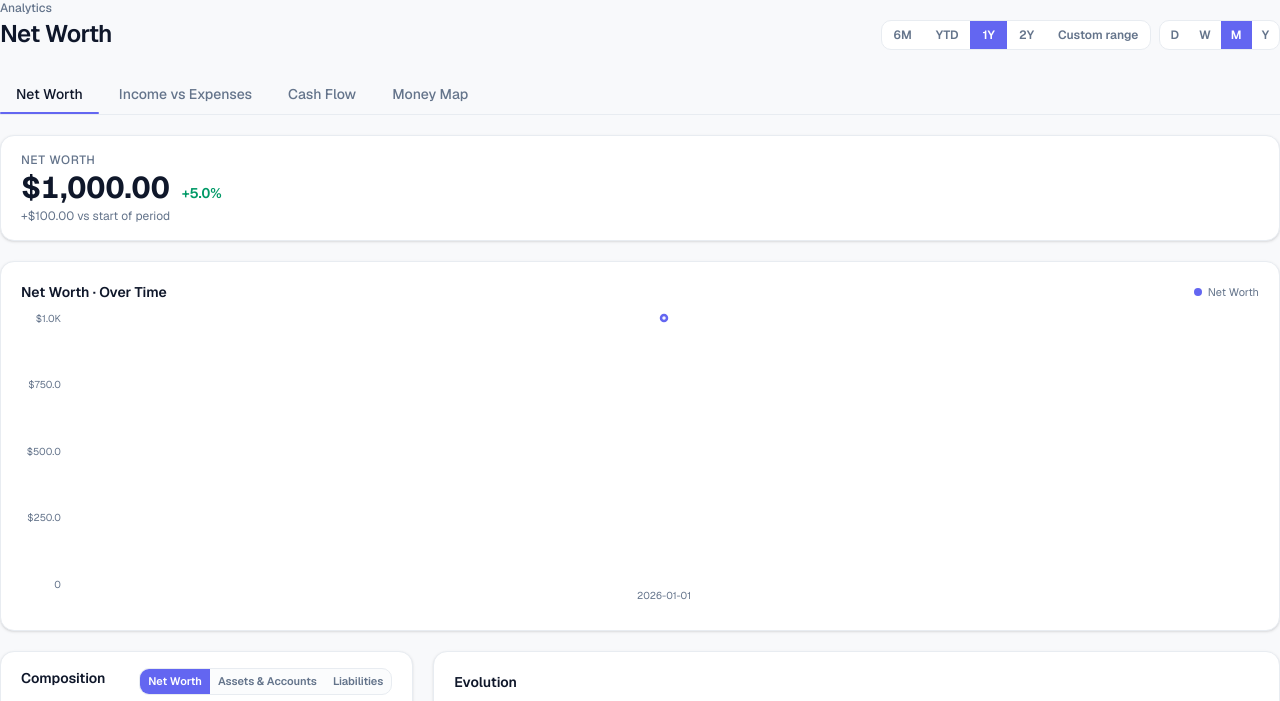
Test: Reset then Apply restores the fallback for reports.moneyMap
What coordinates should you click on to do the following:
click the button "Money Map"
I would click on:
 (430, 94)
Its box is [376, 74, 484, 114].
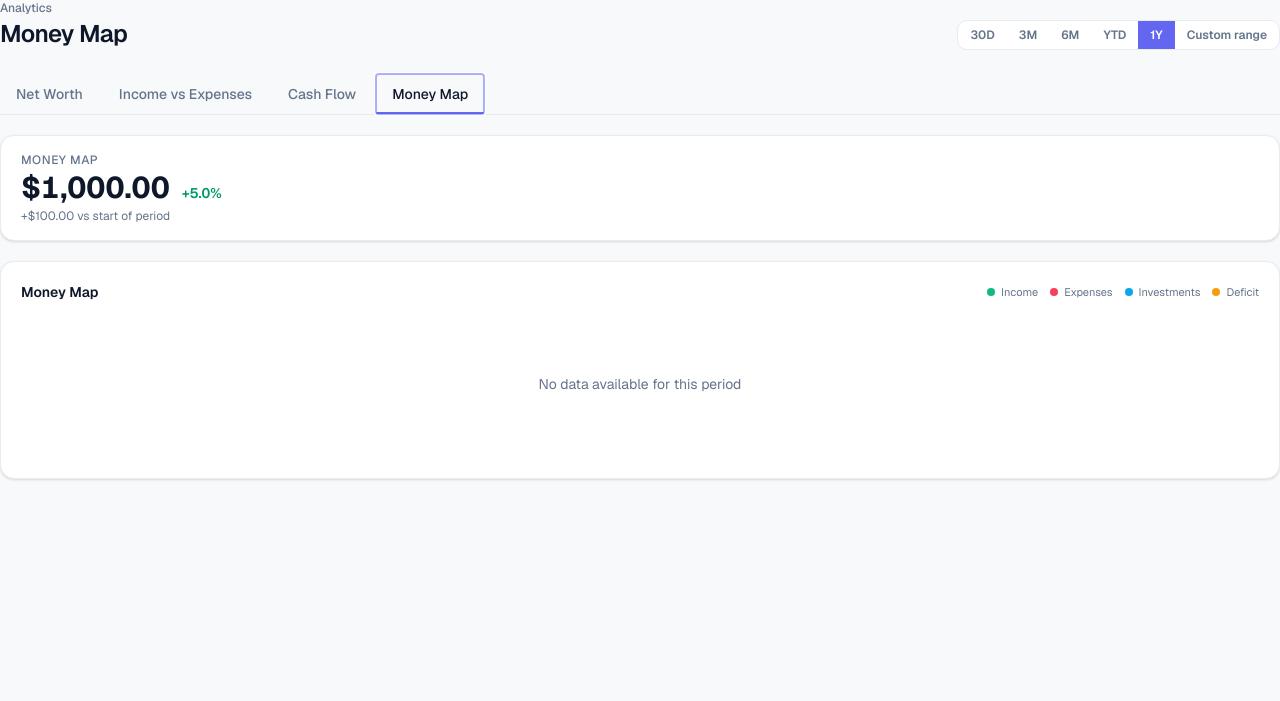
What coordinates should you click on to do the following:
click the button "Custom range"
I would click on:
 (1227, 35)
Its box is [1175, 21, 1279, 49].
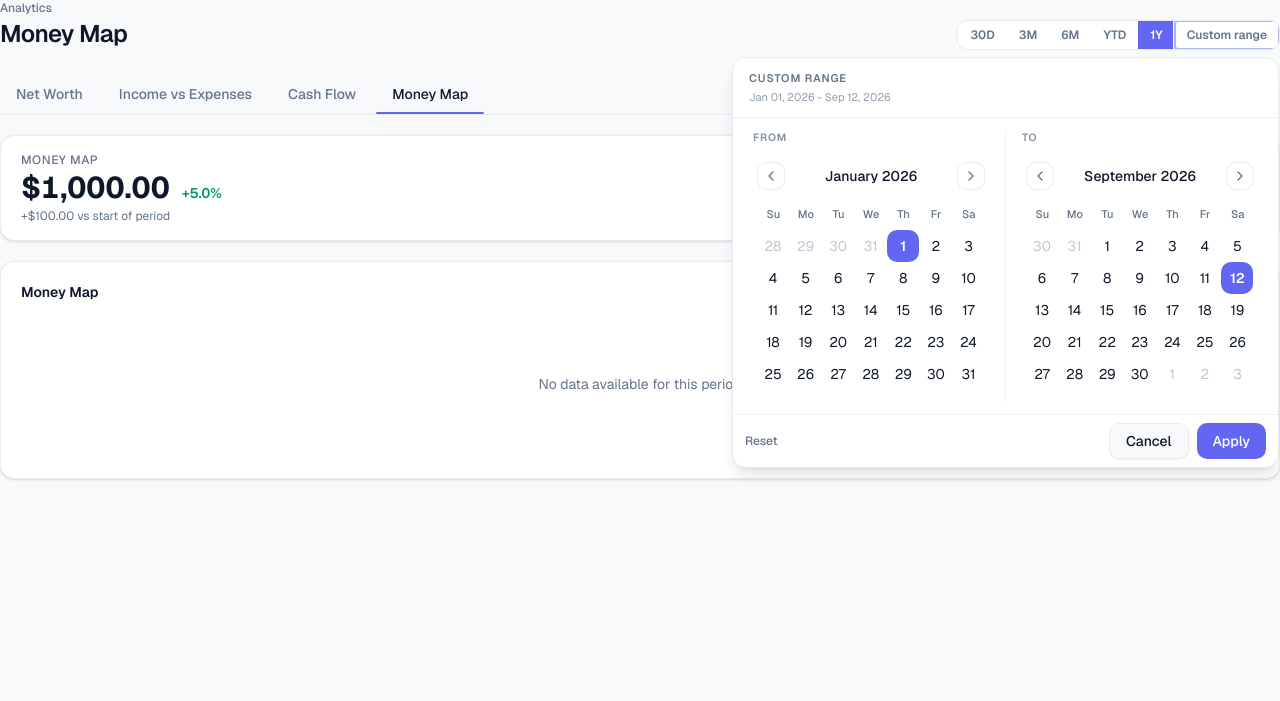
What coordinates should you click on to do the following:
click the button "Apply"
I would click on:
 (1231, 441)
Its box is [1196, 423, 1266, 459].
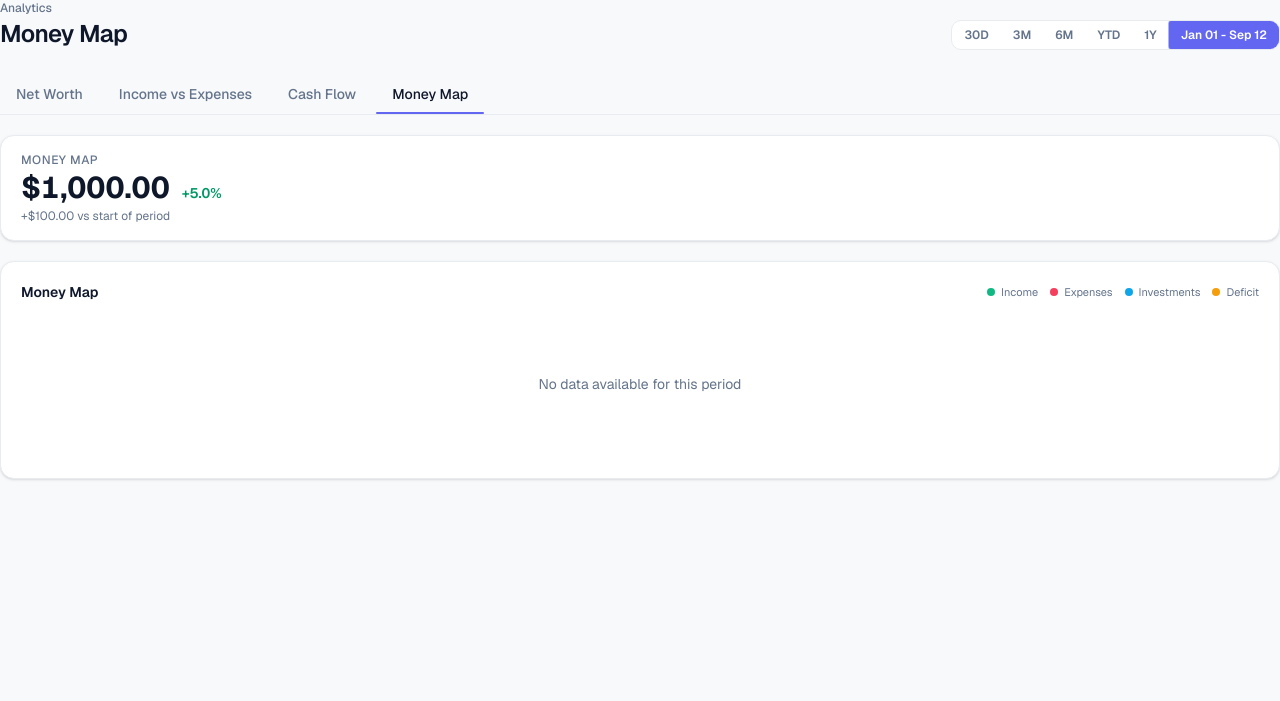
What coordinates should you click on to do the following:
click the button with aria-label "Custom range"
I would click on:
 (1224, 35)
Its box is [1169, 21, 1279, 49].
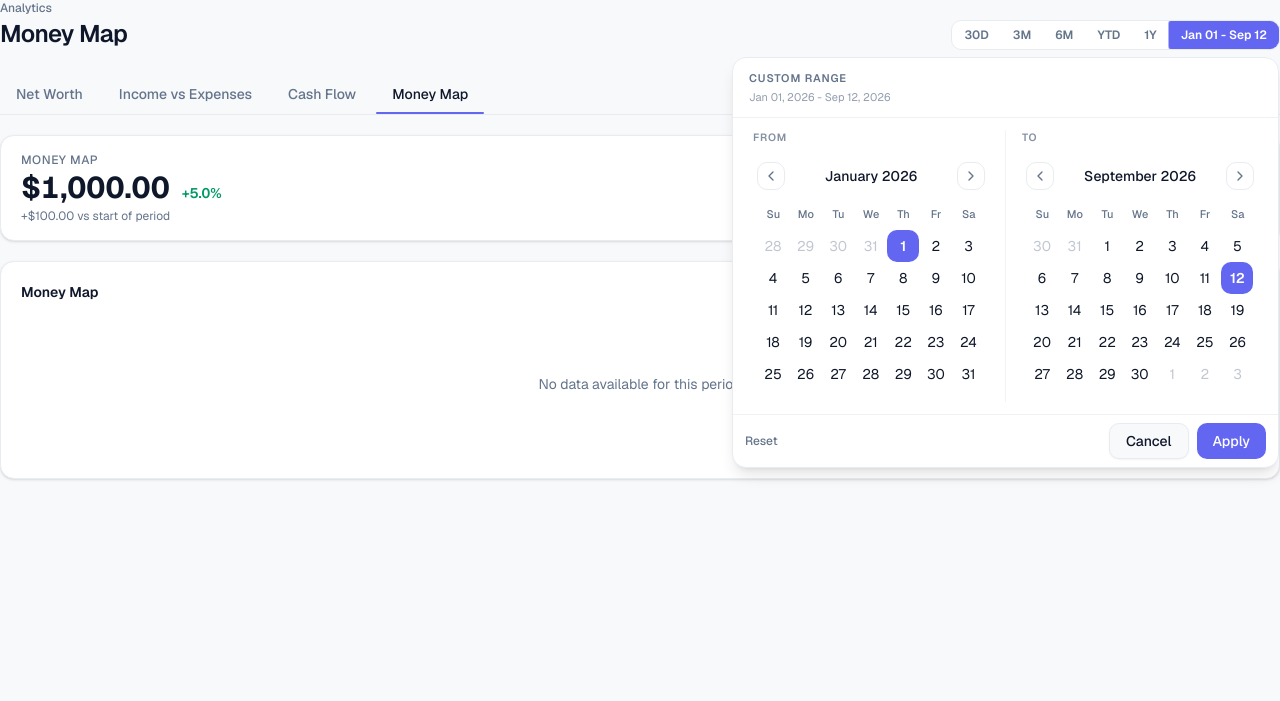
What coordinates should you click on to do the following:
click the button "Reset"
I would click on:
 (761, 441)
Its box is [745, 432, 778, 450].
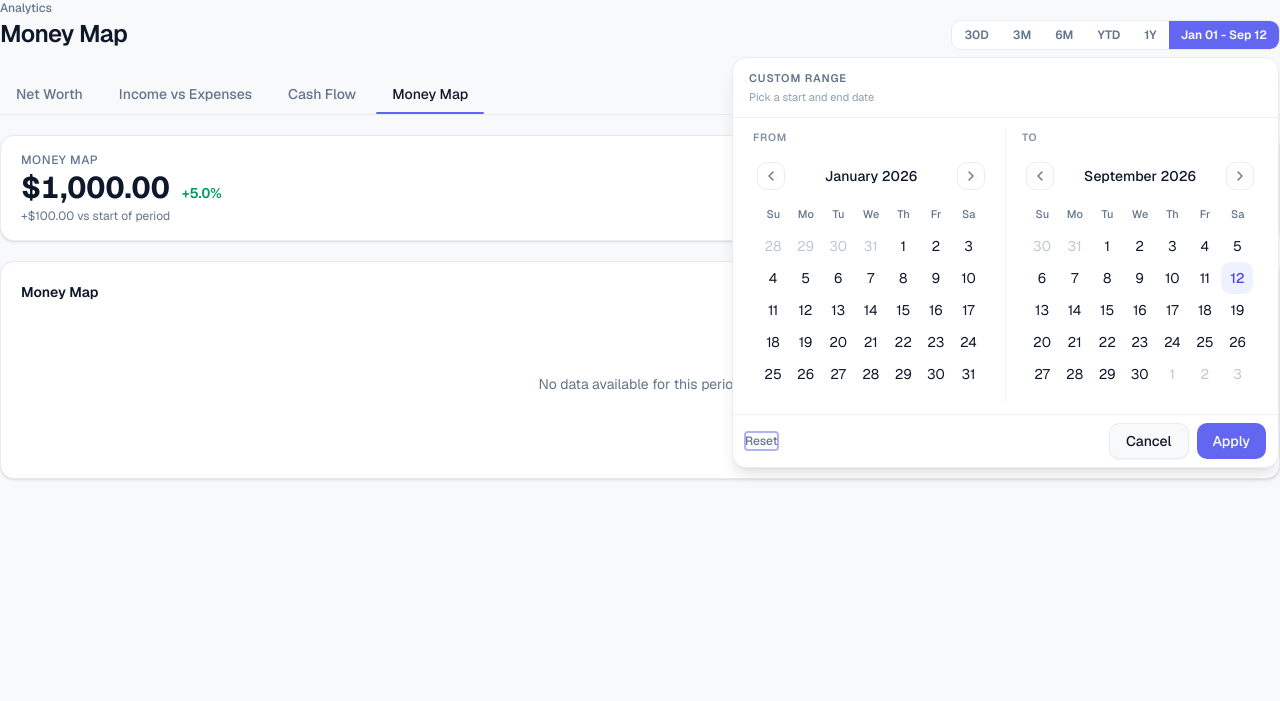
What coordinates should you click on to do the following:
click the button "Apply"
I would click on:
 (1231, 441)
Its box is [1196, 423, 1266, 459].
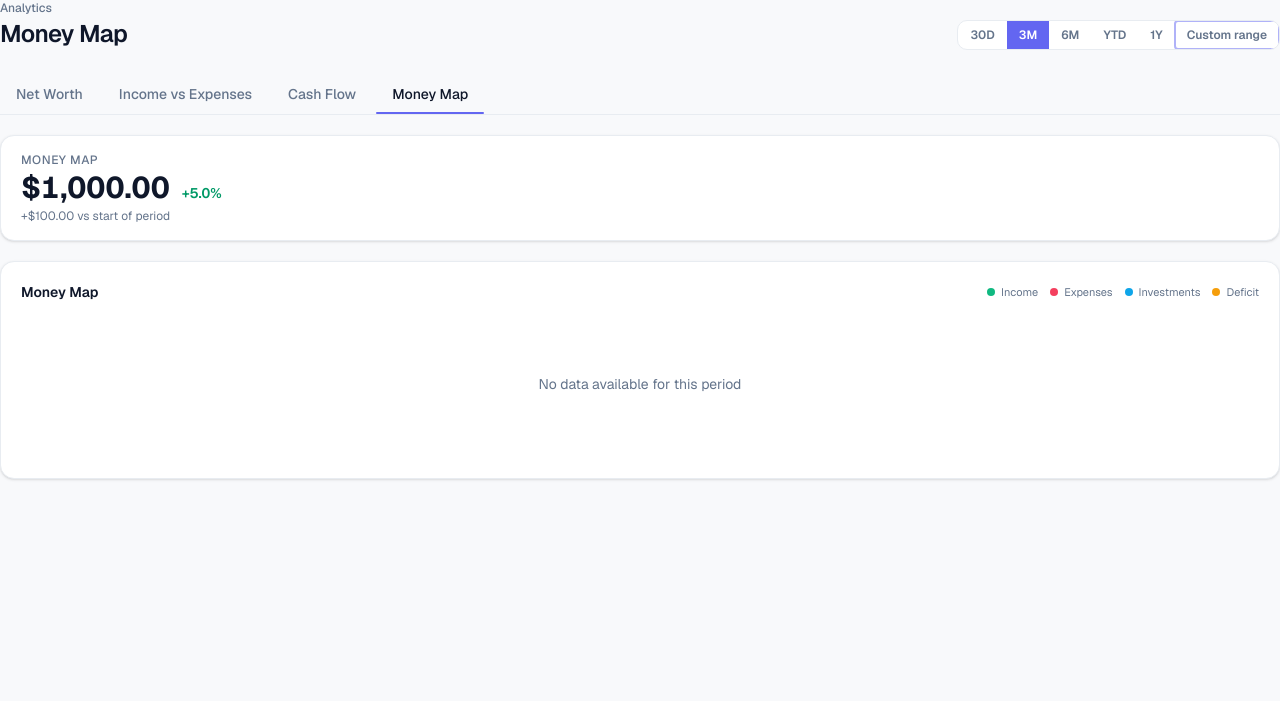
Check: the button "Custom range" is shown, box [1175, 21, 1279, 49]
